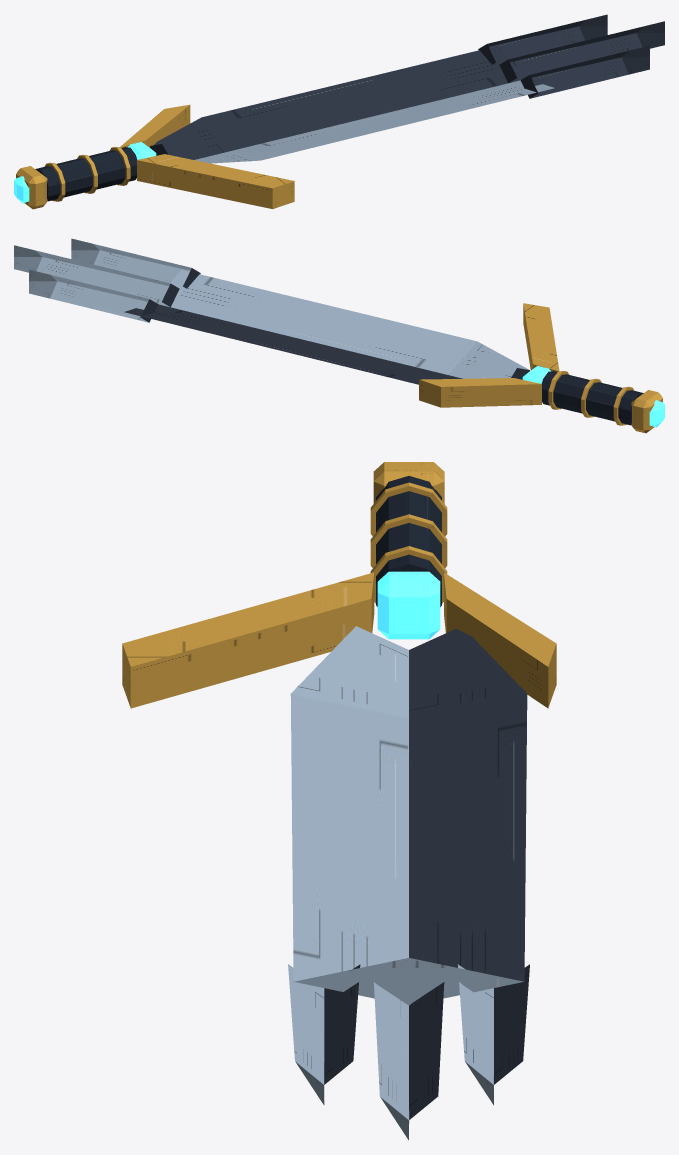
The model's file is troika.glb.
The picture shows the model from 3 angles, top to bottom: view 1: azimuth 30°, elevation 25°; view 2: azimuth 150°, elevation 25°; view 3: azimuth 270°, elevation 25°; orthographic projection. The views are drawn at different scales.
Parts seen in each view (by area): view 1: blade, guard, grip; view 2: blade, guard, grip; view 3: blade, guard, grip.
Part boxes in pixels (left/top/right/bottom): blade: left=150, top=14, right=664, bottom=163; guard: left=120, top=104, right=294, bottom=209; grip: left=14, top=147, right=137, bottom=209; blade: left=14, top=238, right=529, bottom=384; guard: left=419, top=303, right=559, bottom=407; grip: left=541, top=371, right=664, bottom=433; blade: left=288, top=626, right=529, bottom=1140; guard: left=122, top=571, right=556, bottom=708; grip: left=370, top=462, right=447, bottom=606.
Bounding box in the file's own units: 1.08 × 0.058 × 0.312.
5 materials, 5 textured.
